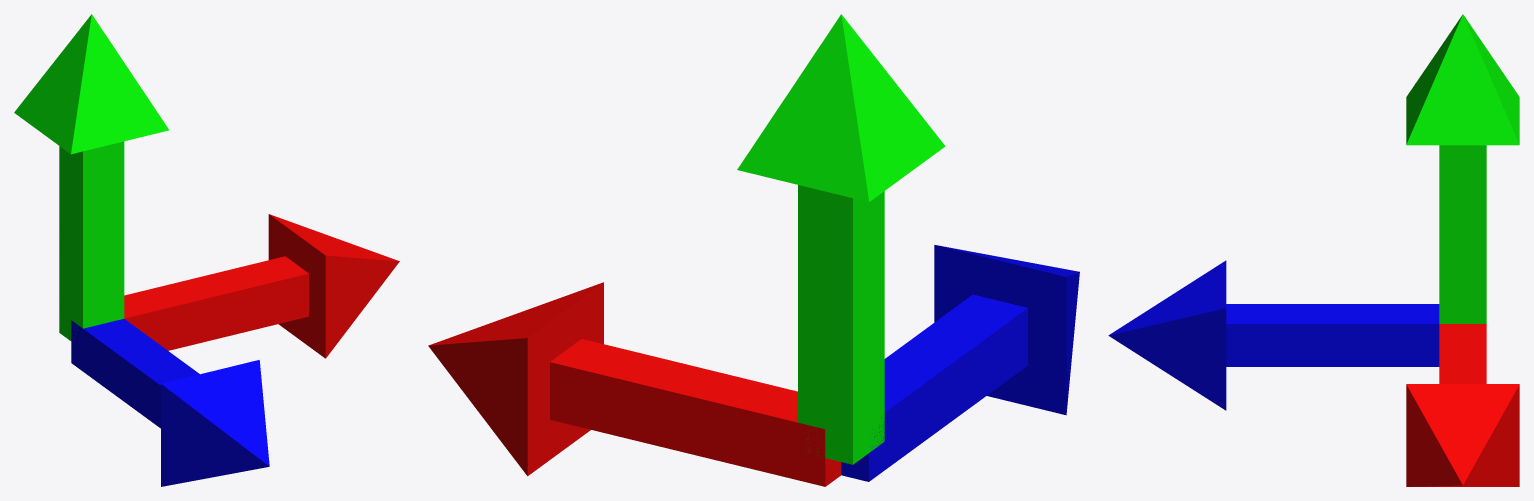
The model's file is gizmo.obj.
The picture shows the model from 3 angles, left to right: view 1: azimuth 30°, elevation 25°; view 2: azimuth 150°, elevation 25°; view 3: azimuth 270°, elevation 25°; orthographic projection. The views are drawn at different scales.
Visible parts, largest first — view 1: 立方体.002, 立方体, 立方体.001; view 2: 立方体.002, 立方体, 立方体.001; view 3: 立方体.001, 立方体.002, 立方体.
Part boxes in pixels (x1,y1,x2,y2): 立方体.002: [14, 14, 168, 340]; 立方体: [124, 214, 399, 358]; 立方体.001: [71, 319, 269, 486]; 立方体.002: [737, 14, 945, 464]; 立方体: [428, 282, 841, 486]; 立方体.001: [841, 245, 1079, 481]; 立方体.001: [1108, 260, 1439, 410]; 立方体.002: [1406, 14, 1519, 323]; 立方体: [1406, 324, 1519, 486].
Bounding box in the file's own units: 1.74 × 1.74 × 1.74.
